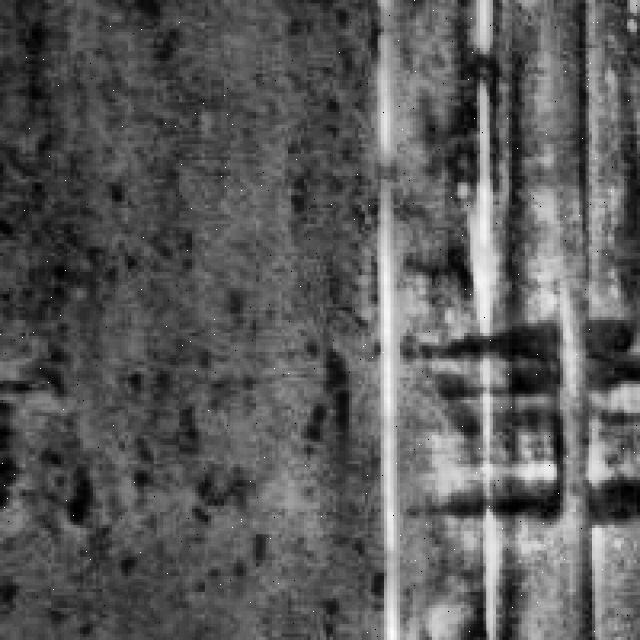Inclusion: (464, 9, 522, 586), (374, 32, 416, 634)
Patches: (474, 316, 640, 521), (563, 0, 605, 288)
